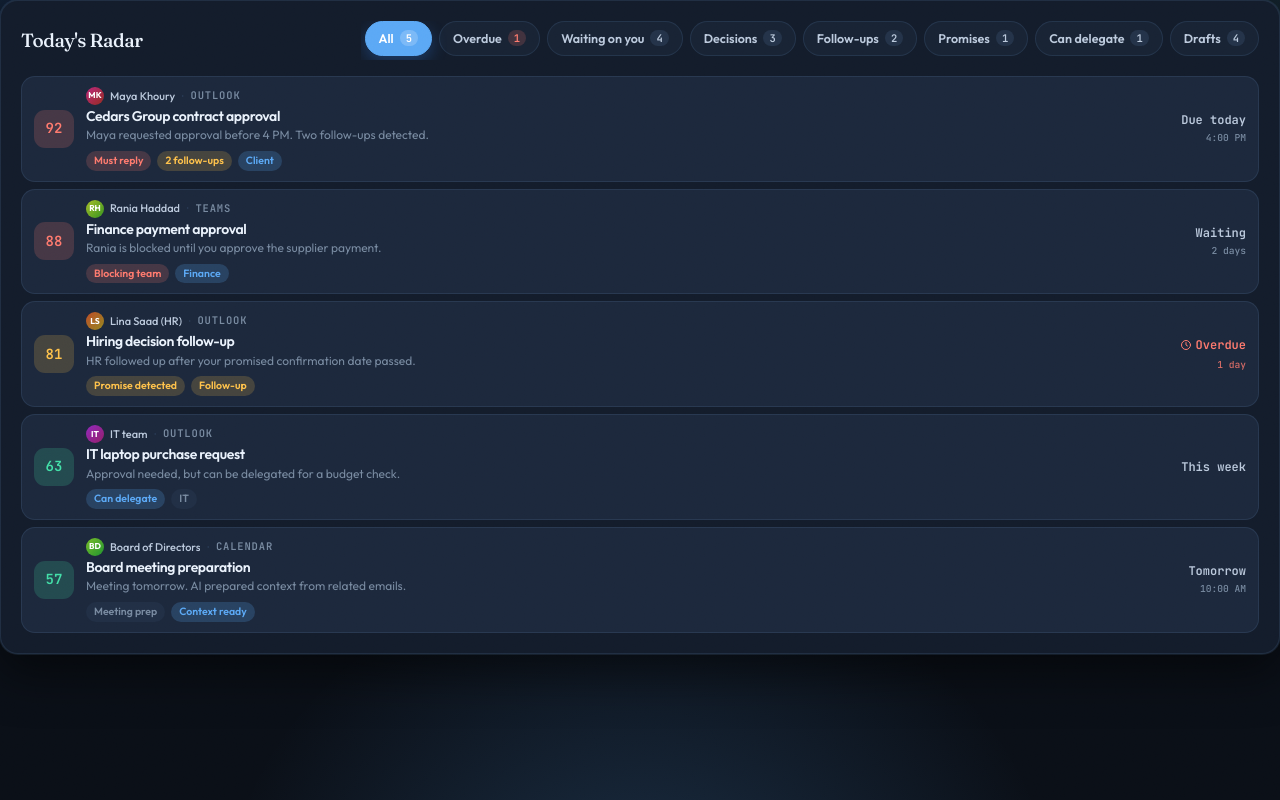
Test case: TodaysRadar › filters items when the "Can delegate" chip is clicked
The width and height of the screenshot is (1280, 800).
Click the tab "Can delegate 1". click: (1099, 38)
box: [1035, 21, 1163, 56]
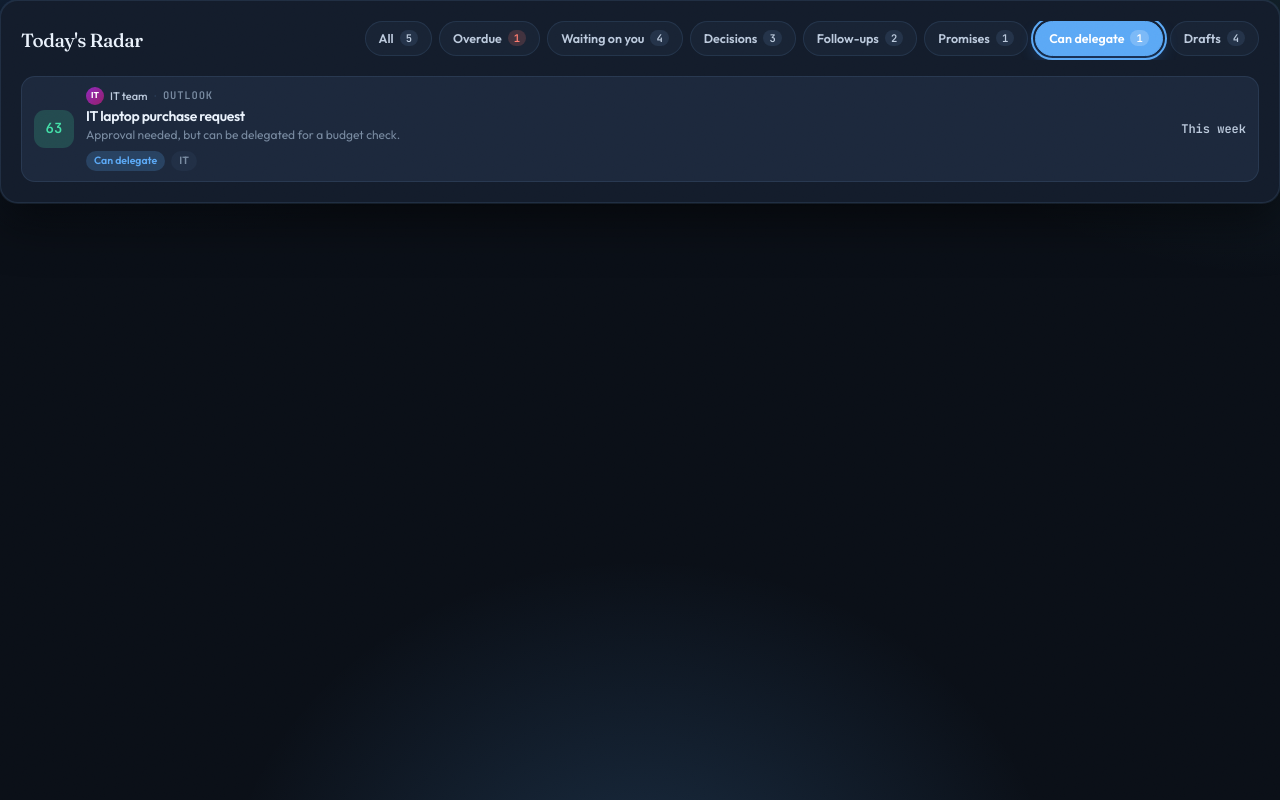
Expected: the heading "IT laptop purchase request" is shown, [86, 107, 245, 125]
Expected: the button "Finance payment approval" is gone
